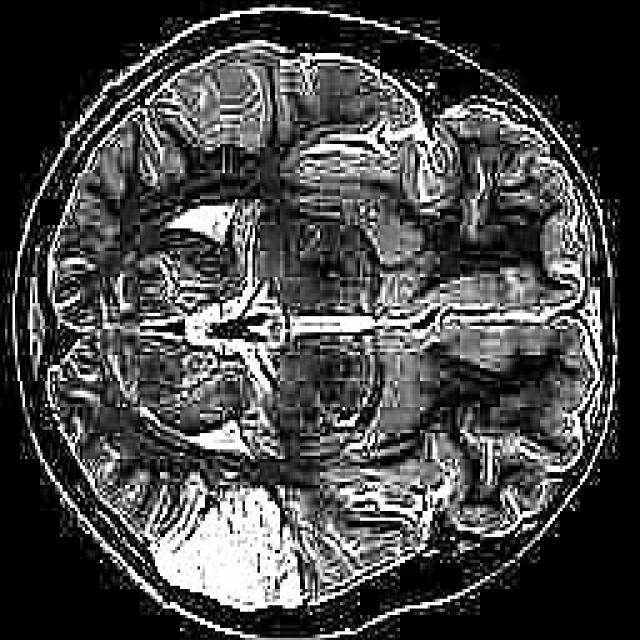tumor: (145, 484, 320, 611)
